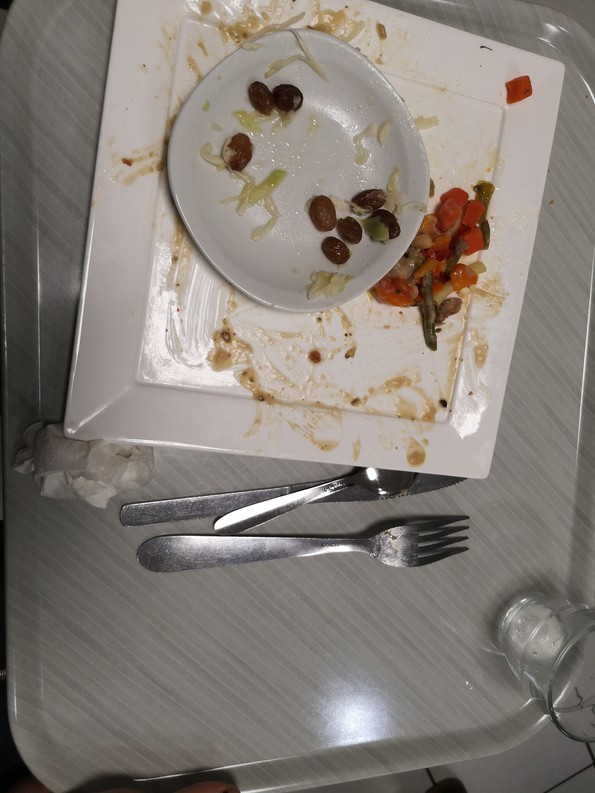cup: (499, 583, 595, 741)
cutlery: (99, 452, 508, 594)
orga: (232, 82, 408, 278), (374, 179, 521, 342)
trash: (9, 414, 167, 509)
